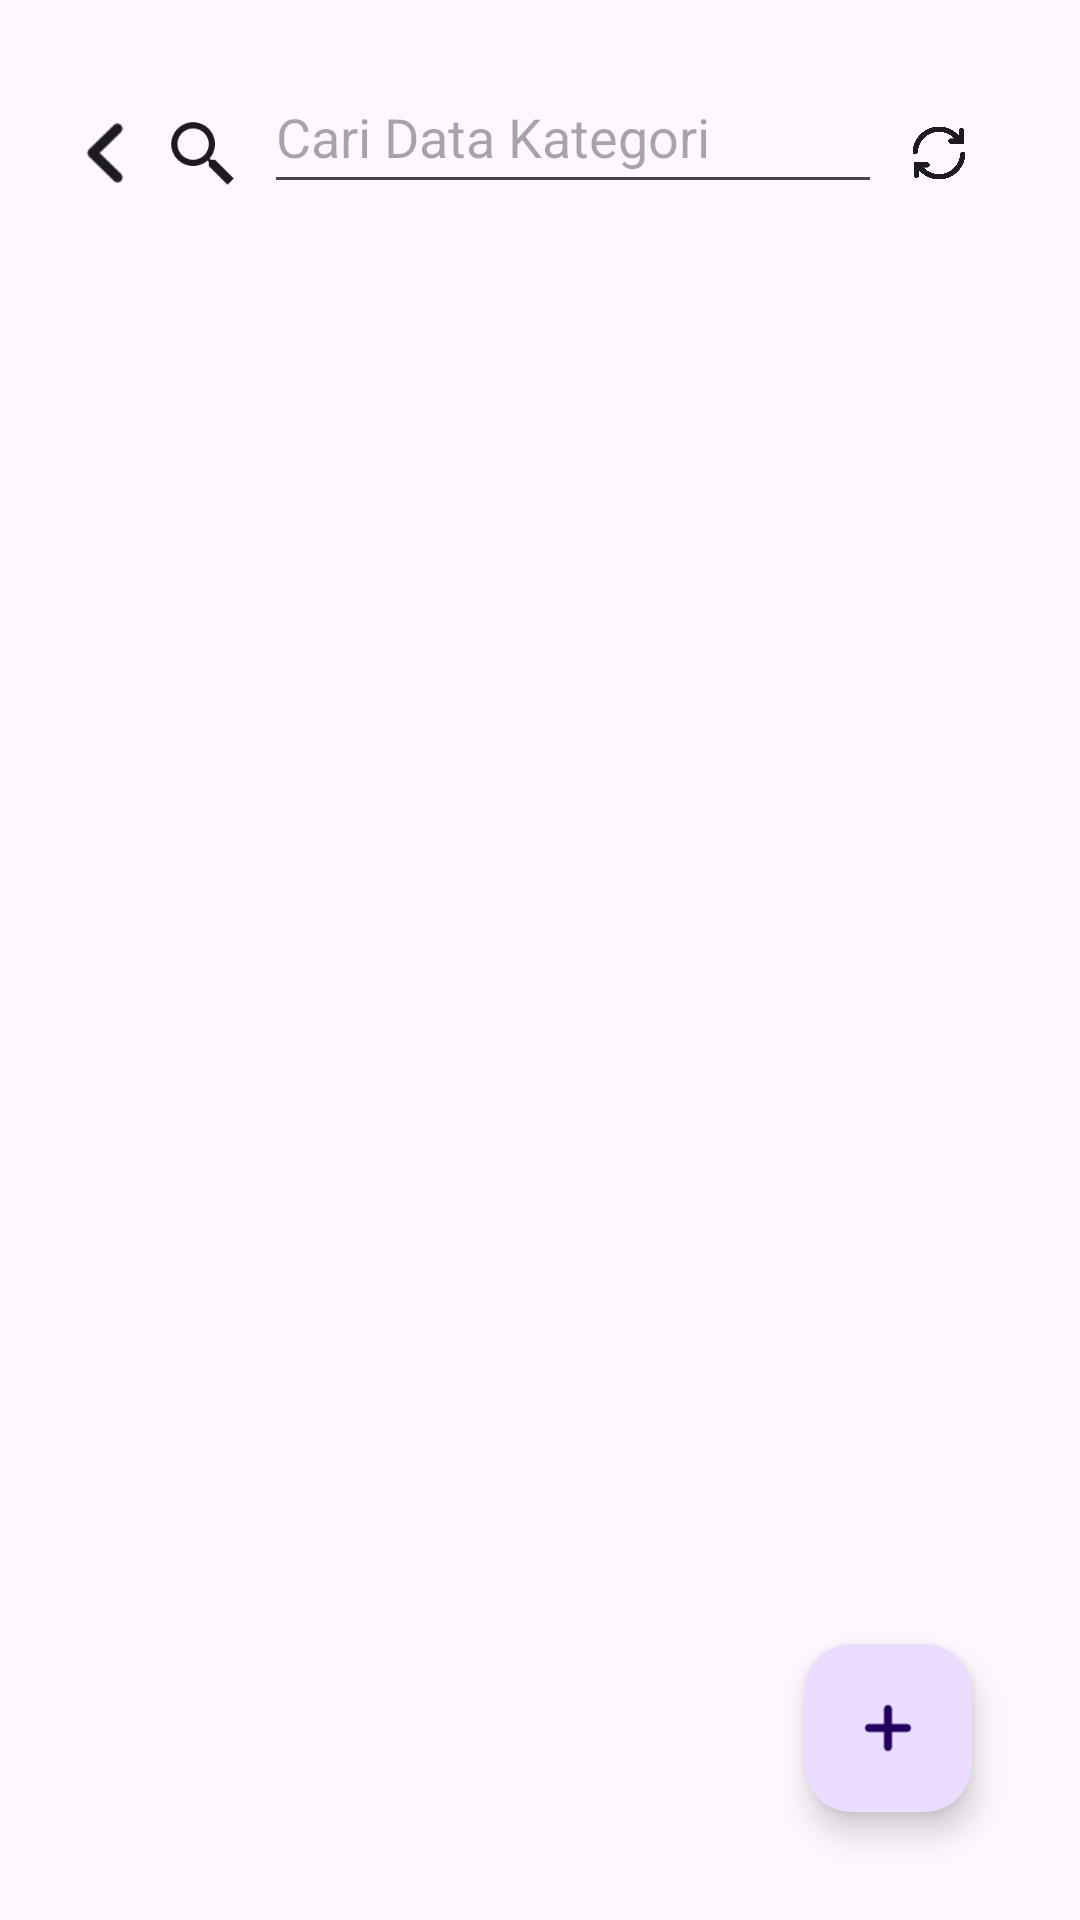

Icon click points for this 1080w x 1920h phone screenshot, format (x=x, y=y):
back: (x=105, y=153)
reload: (x=939, y=153)
search: (x=202, y=153)
tambah: (x=888, y=1728)
